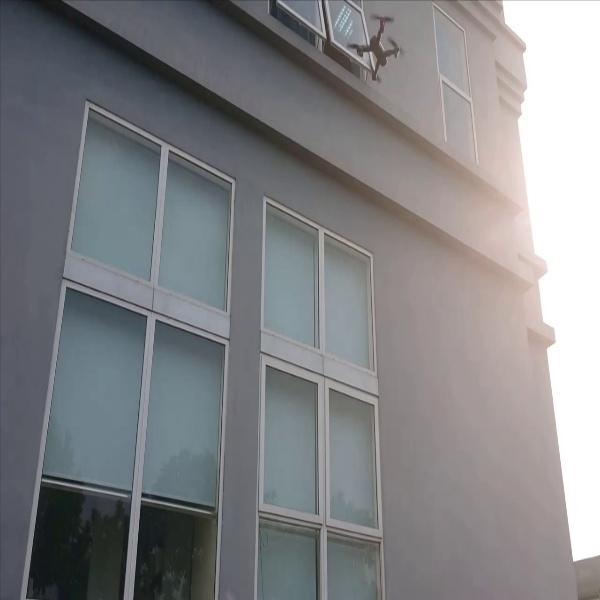drone: (347, 9, 410, 90)
